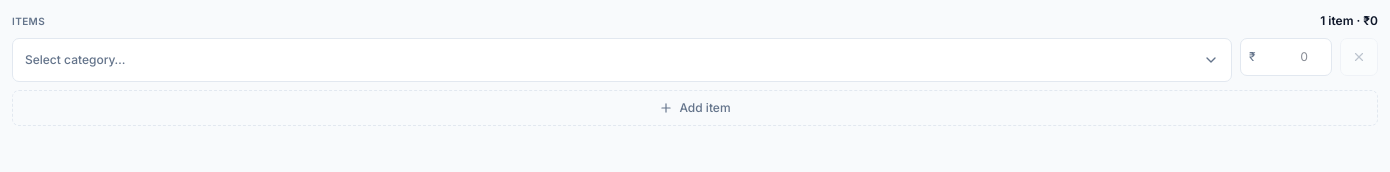
Test: MultiItemExpenseForm › updates the running total as amounts are typed
This screenshot has width=1390, height=172.
In the number field named "Amount for item 1": (1290, 57) 1258,48 -> 1323,66, type "805"
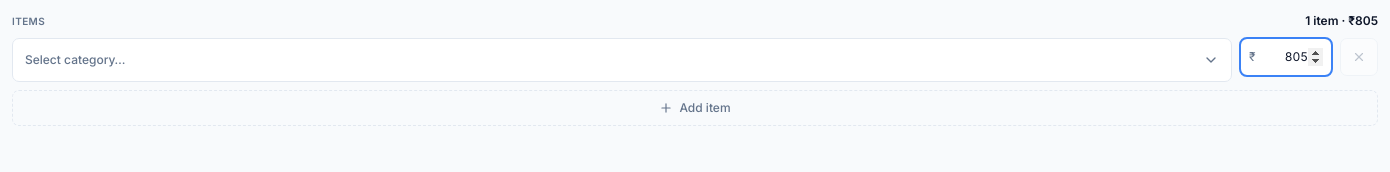
Now the text "1 item · ₹805" is shown, box 1305,12 -> 1378,30
